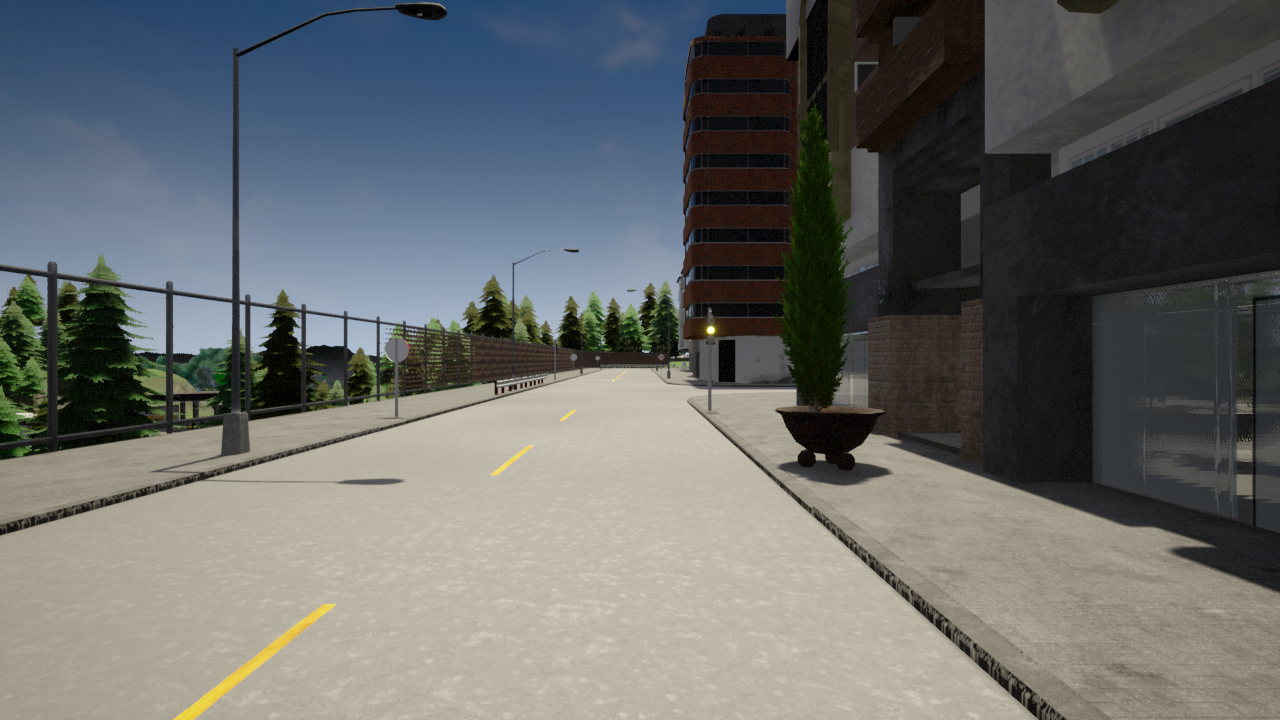yellow: (705, 314, 717, 346)
